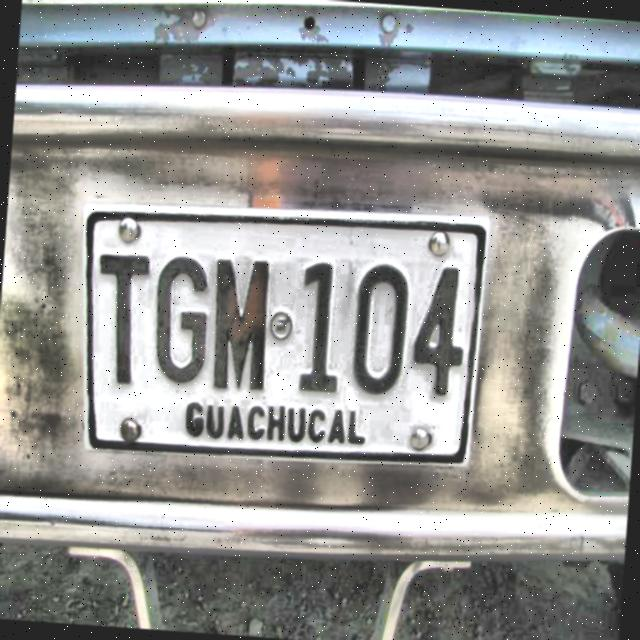plate: (87, 210, 483, 461)
